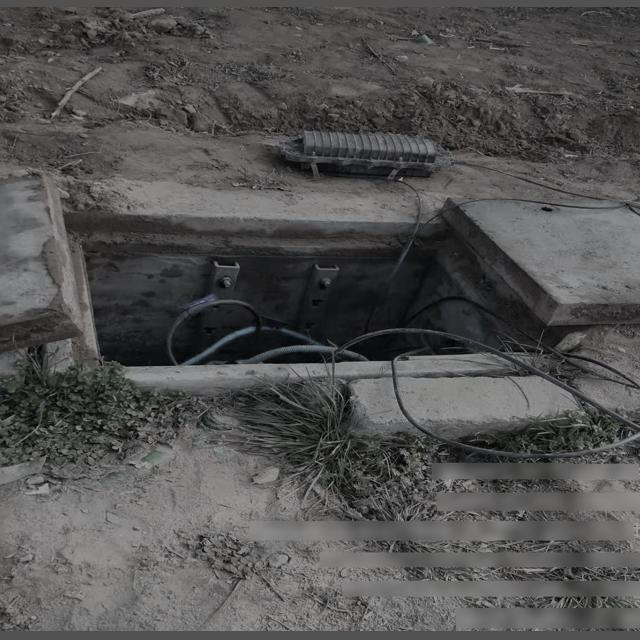uncovered: (0, 170, 640, 382)
